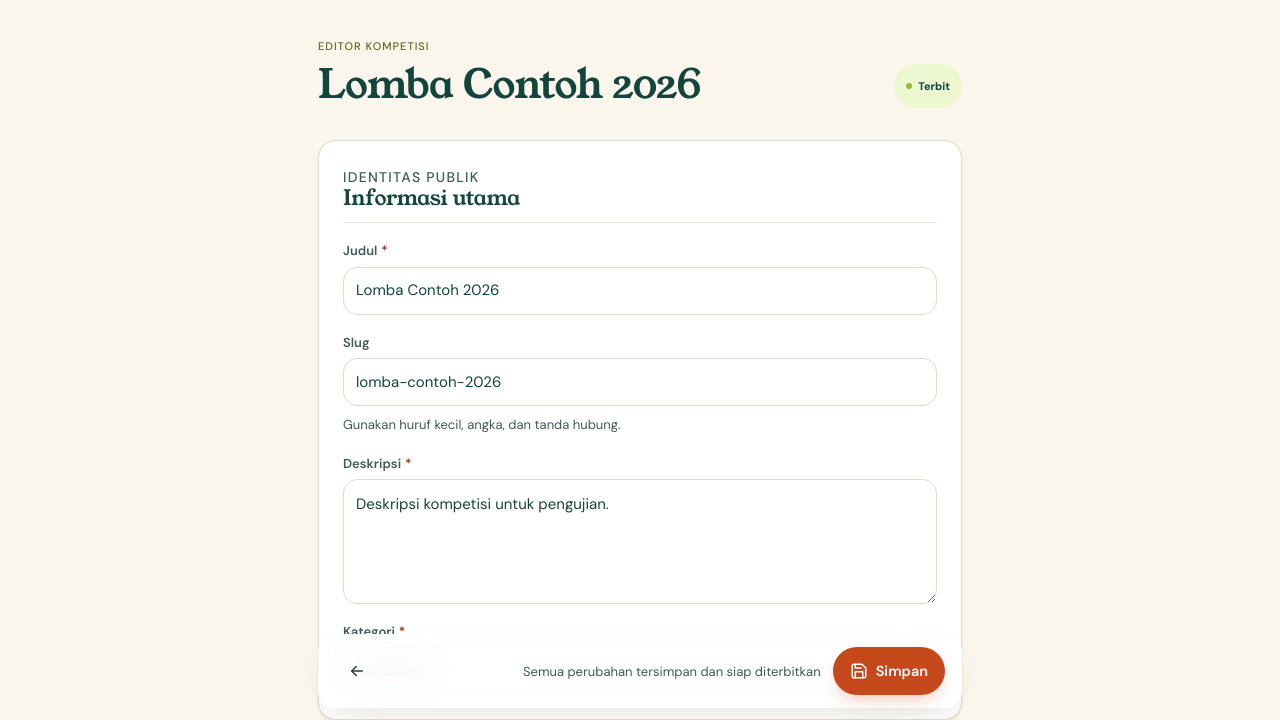
Test: InstitutionCompetitionEditShell save body › does not send an empty patch when a published form has no changes
Click the button "Simpan".
click(889, 671)  # box [833, 647, 945, 695]
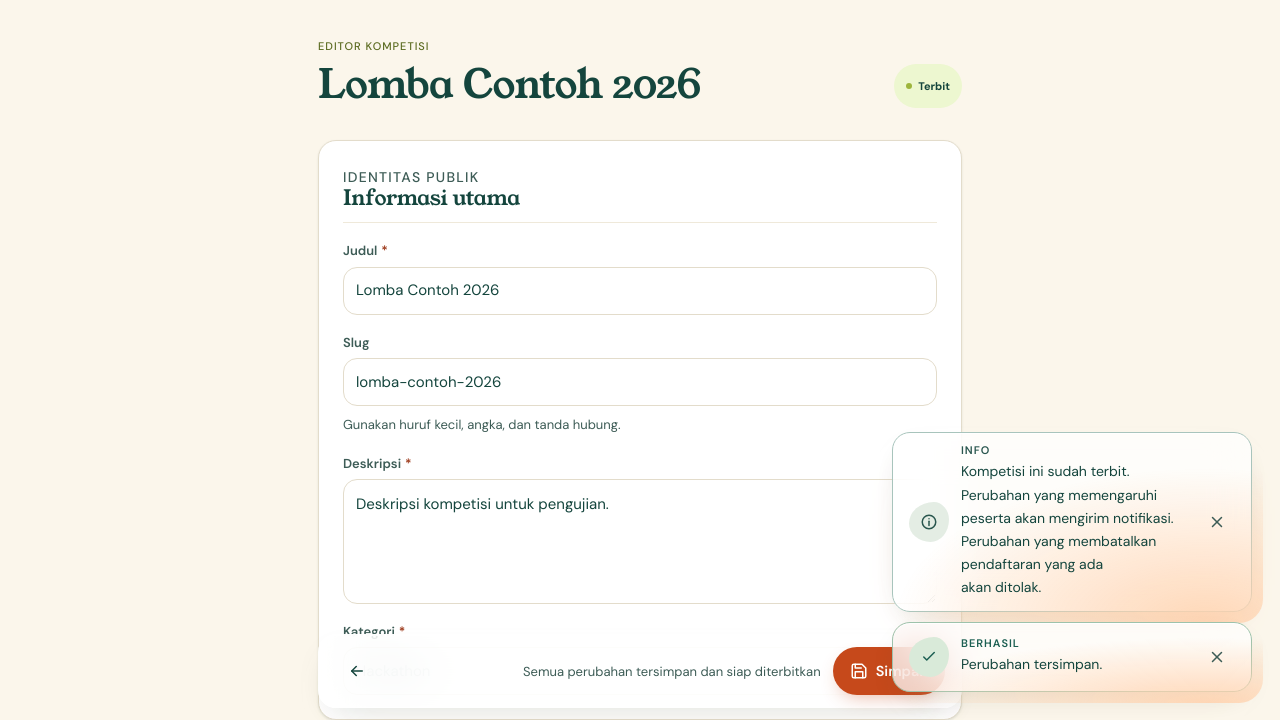
Check: the text "Perubahan tersimpan." is shown, box [961, 655, 1102, 673]
